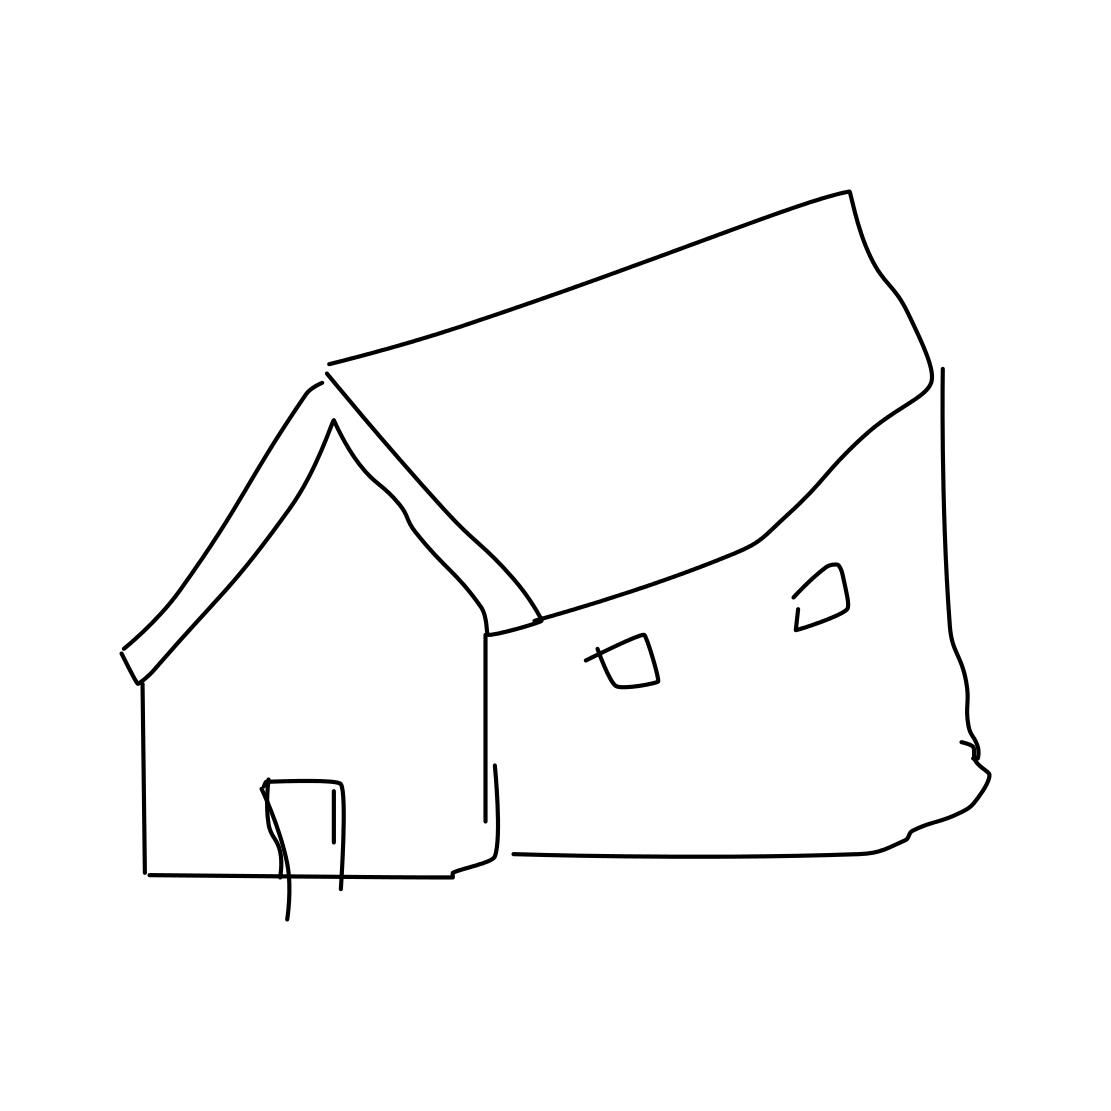House: (57, 178, 999, 892)
